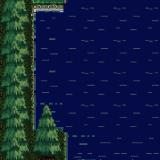Interaction: (27, 17, 41, 130), (27, 0, 72, 17), (41, 116, 78, 130), (64, 130, 78, 160)
Obstacle: (0, 0, 32, 160), (33, 131, 64, 160)
Slow: (67, 0, 160, 160), (38, 13, 66, 129)
